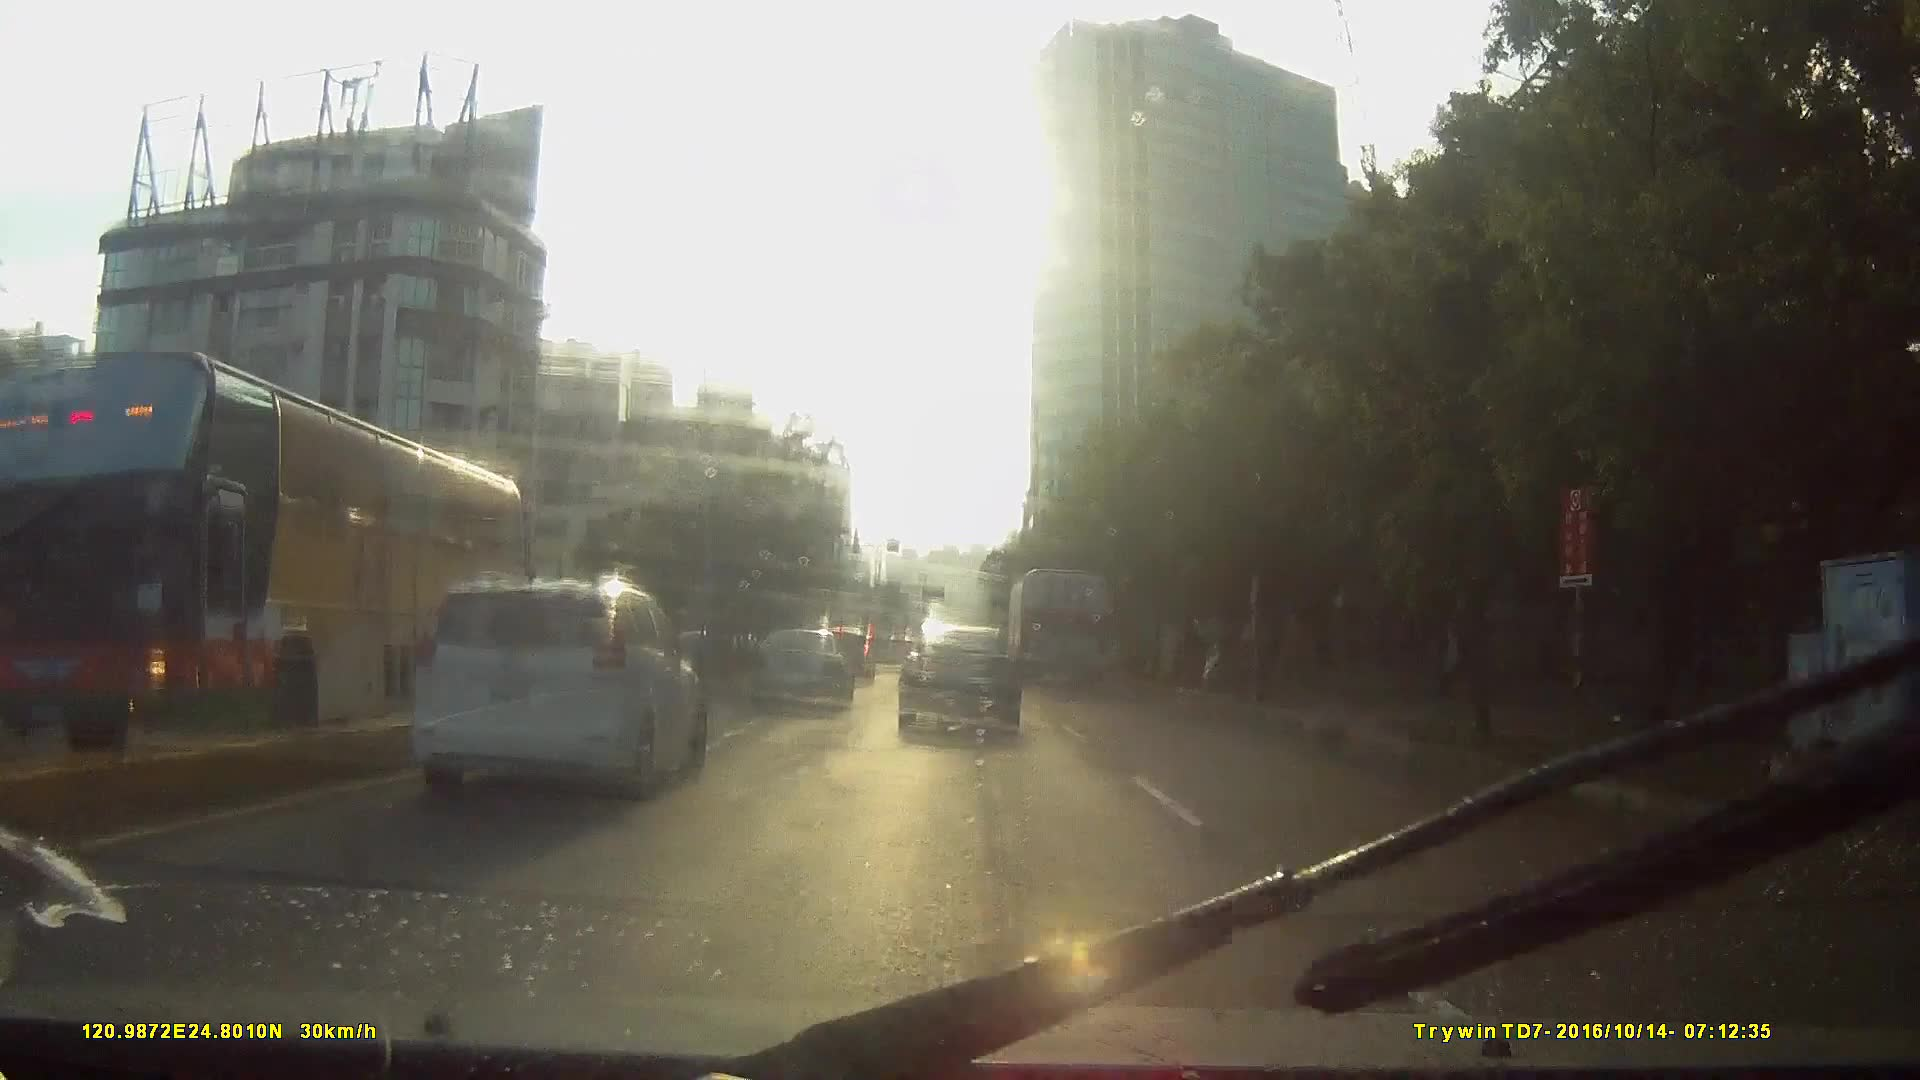vehicle: (1, 342, 539, 767), (251, 556, 684, 868), (407, 568, 705, 800), (894, 620, 1021, 733), (1007, 564, 1112, 691), (746, 625, 853, 711), (866, 638, 915, 687)
